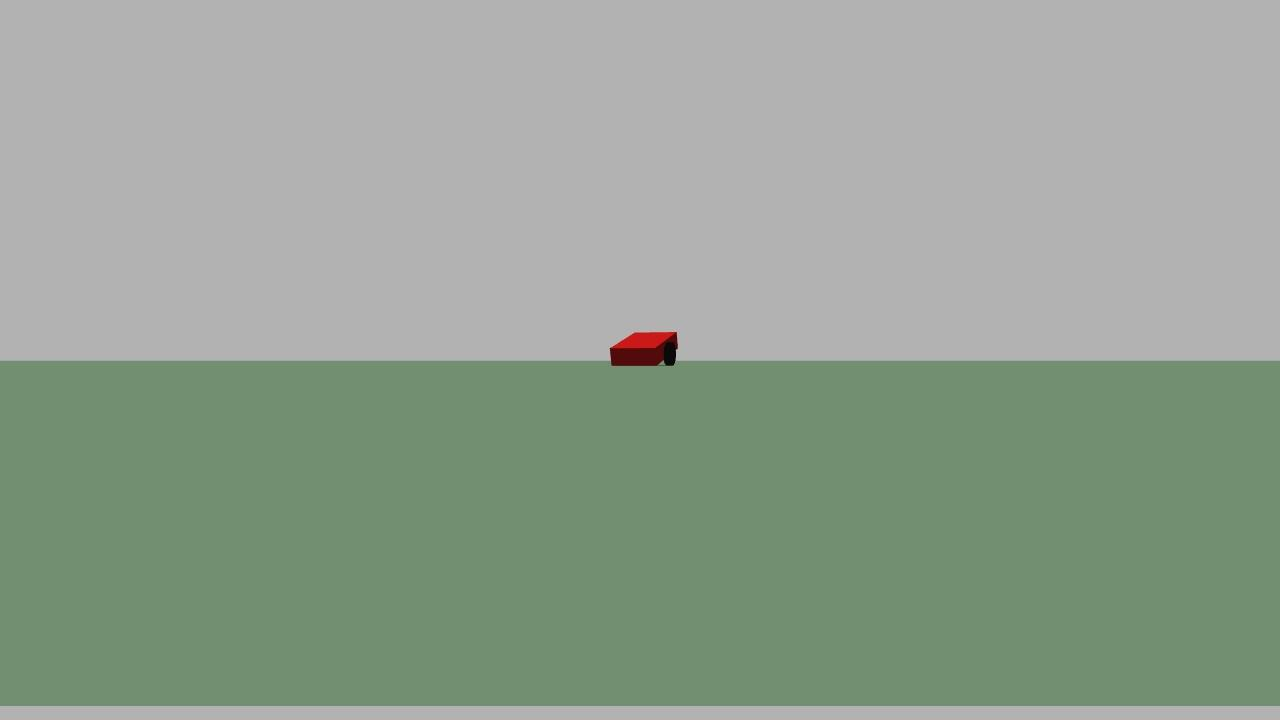ground_vehicle: (600, 314, 677, 373)
